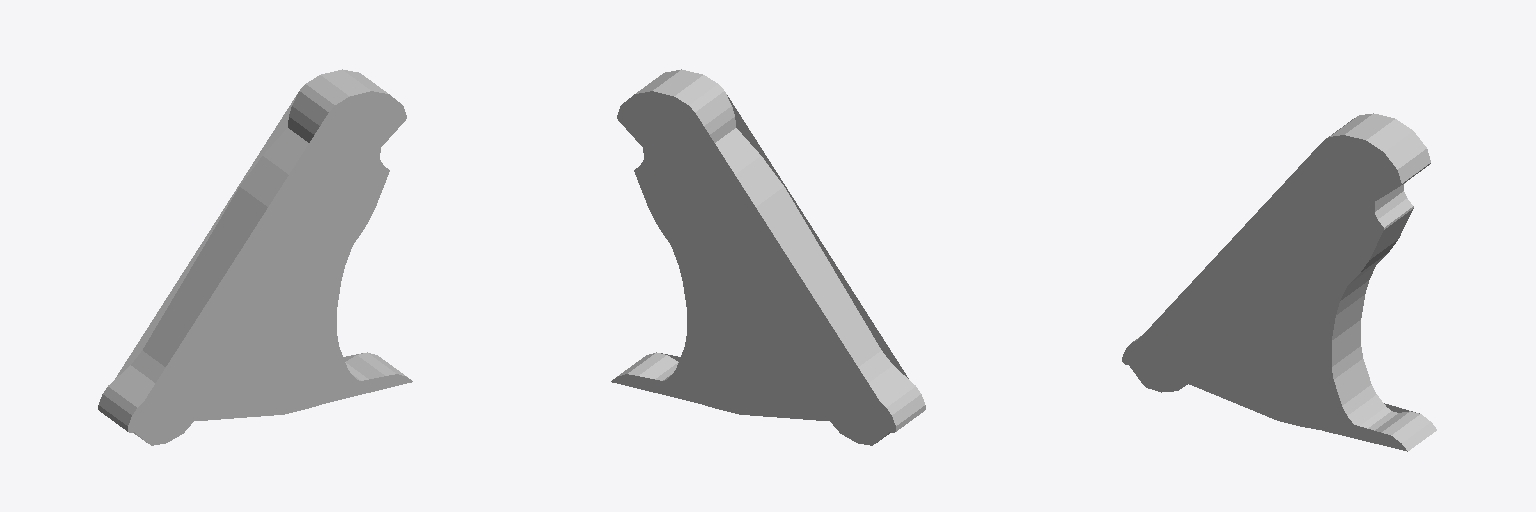
The model's file is Falcon3D.obj.
3 views of the same model, side by side, from view 1: azimuth 30°, elevation 25°; view 2: azimuth 150°, elevation 25°; view 3: azimuth 330°, elevation 25° (orthographic).
Visible parts, largest first — view 1: Falcon; view 2: Falcon; view 3: Falcon.
Boxes of the visible parts, x1=… form: Falcon: x1=98, y1=69, x2=412, y2=445; Falcon: x1=611, y1=69, x2=925, y2=445; Falcon: x1=1122, y1=113, x2=1436, y2=451.
Bounding box in the file's own units: 69.34 × 70.1 × 12.45.